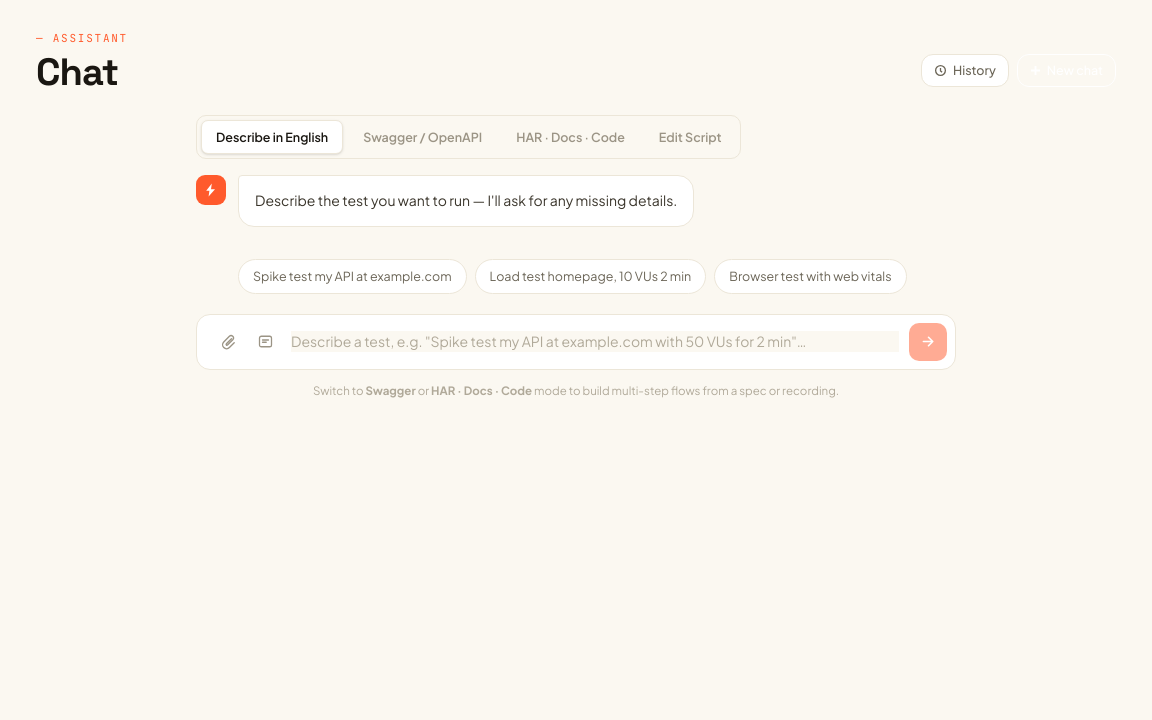
Test: ChatPage › renders the redirect message with a working link to /?type=flow on redirectToFlowBuilder
Replace the text in the field with placeholder "Describe a test" with "login then go to checkout and pay": coordinates (595, 342) [291,331,899,352]
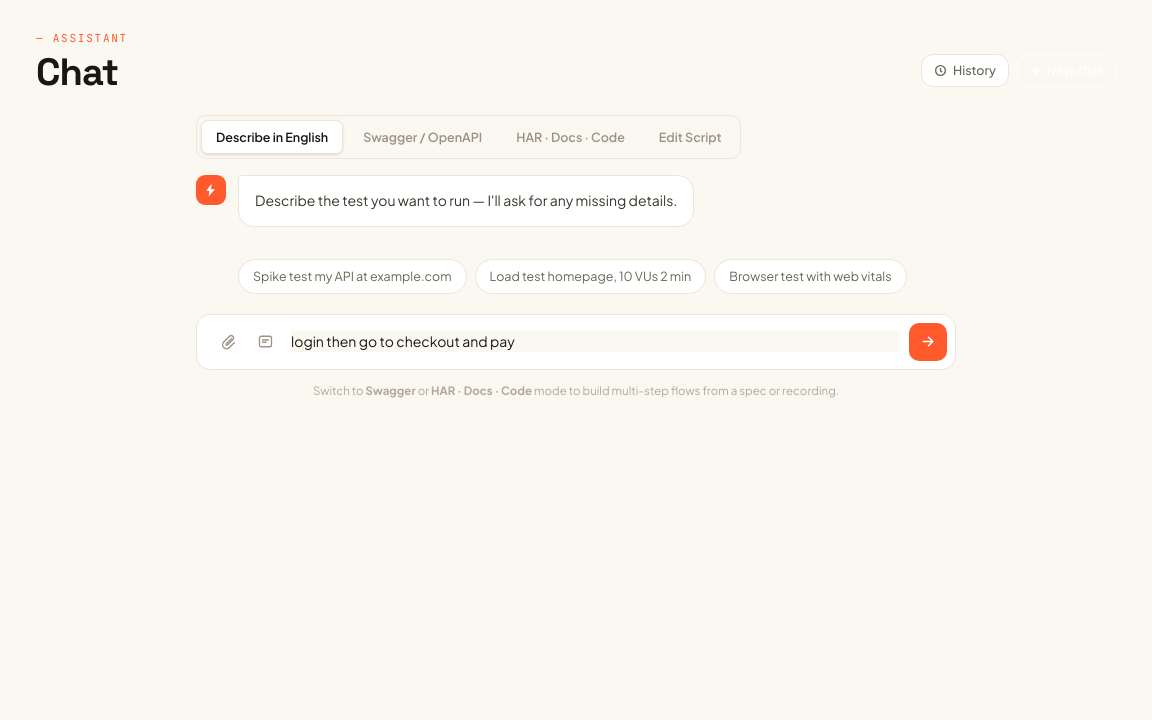
Click the button named "send": coordinates (928, 342) [909,323,947,361]
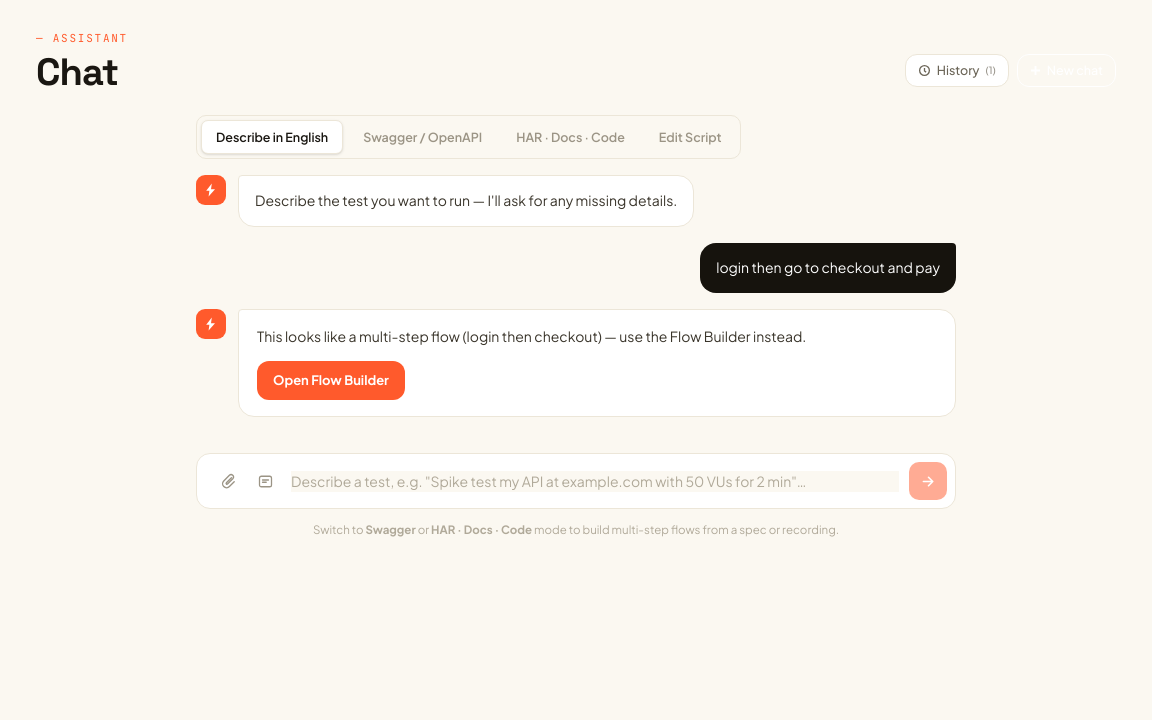
Now the text "login then checkout" is shown, box [257,327,806,345]
